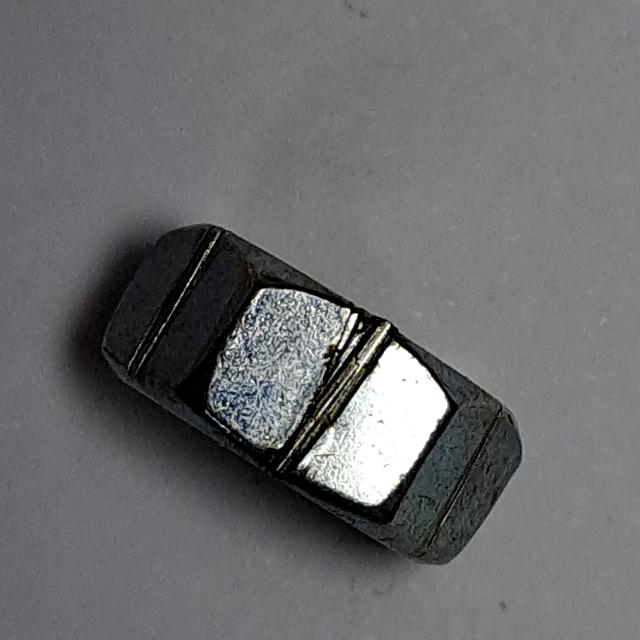Side_Scratches: (87, 213, 535, 584)
